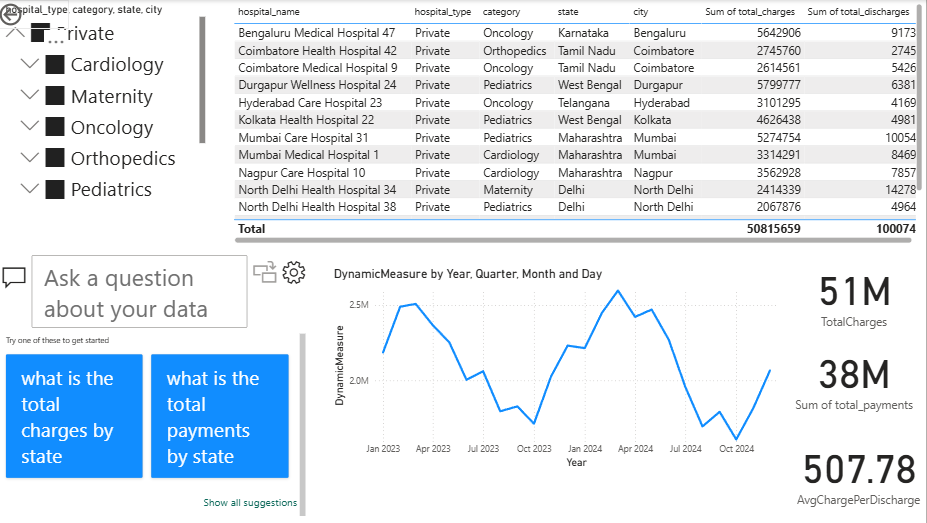

Layout of this report page (visuals, bound fields, positions):
{"tool":"powerbi","page":{"name":"Hospital Search","canvas":[1280,720],"ordinal":2},"visuals":[{"type":"slicer","fields":{"Values":["hospitals.hospital_type","hospitals.category","hospitals.state","hospitals.city"]},"box":[0,0,293.2,287.7],"z":0},{"type":"qnaVisual","box":[0,326.2,434.9,393.6],"z":1000},{"type":"tableEx","fields":{"Values":["hospitals.hospital_name","hospitals.hospital_type","hospitals.category","hospitals.state","hospitals.city","Sum(inpatient_records.total_charges)","Sum(inpatient_records.total_discharges)"]},"box":[322.1,0,957.9,340],"z":1001},{"type":"lineChart","fields":{"Category":["inpatient_records.date.Variation.Date Hierarchy.Year","inpatient_records.date.Variation.Date Hierarchy.Quarter","inpatient_records.date.Variation.Date Hierarchy.Month","inpatient_records.date.Variation.Date Hierarchy.Day"],"Y":["AnalysisSetting.DynamicMeasure"]},"box":[459.7,366.1,634.5,283.5],"z":1002},{"type":"card","fields":{"Values":["inpatient_records.TotalCharges"]},"box":[1081.8,351,198.2,107.4],"z":1003},{"type":"actionButton","box":[0,0,100,40],"z":1004},{"type":"card","fields":{"Values":["Sum(inpatient_records.total_payments)"]},"box":[1081.8,458.3,198.2,119.7],"z":1005},{"type":"card","fields":{"Values":["inpatient_records.AvgChargePerDischarge"]},"box":[1094.2,578.1,185.8,141.8],"z":1006}]}

Visuals, with their boxes on the page's 1280x720 design canvas (x1, y1, x2, y2). These are canvas units, not pixel positions in the 927x523 screenshot, which may show the page scaled, cropped or inside an application window:
slicer - hospitals.hospital_type x hospitals.category: BBox(0, 0, 293, 288)
qnaVisual: BBox(0, 326, 435, 720)
tableEx - hospitals.hospital_name x hospitals.hospital_type: BBox(322, 0, 1280, 340)
lineChart - inpatient_records.date.Variation.Date Hierarchy.Year x inpatient_records.date.Variation.Date Hierarchy.Quarter: BBox(460, 366, 1094, 650)
card - inpatient_records.TotalCharges: BBox(1082, 351, 1280, 458)
actionButton: BBox(0, 0, 100, 40)
card - Sum(inpatient_records.total_payments): BBox(1082, 458, 1280, 578)
card - inpatient_records.AvgChargePerDischarge: BBox(1094, 578, 1280, 720)
